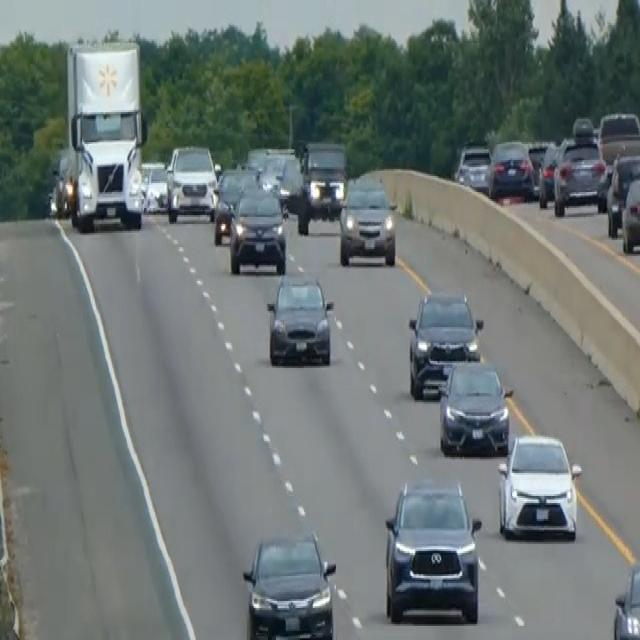car: (241, 528, 337, 638), (496, 430, 582, 540), (407, 286, 483, 398), (438, 357, 512, 457), (265, 270, 334, 366), (228, 183, 287, 274), (338, 176, 397, 267), (552, 132, 608, 215), (166, 142, 217, 222), (212, 164, 257, 245), (300, 139, 347, 215), (487, 137, 534, 201), (605, 150, 639, 236), (597, 109, 639, 167), (612, 560, 639, 638), (455, 140, 491, 194), (49, 151, 73, 217), (620, 171, 639, 254), (261, 146, 295, 192), (527, 137, 554, 194), (278, 155, 304, 213), (537, 140, 559, 207), (142, 162, 169, 213)
jeep: (381, 473, 483, 626)
lorry: (60, 37, 147, 231)
